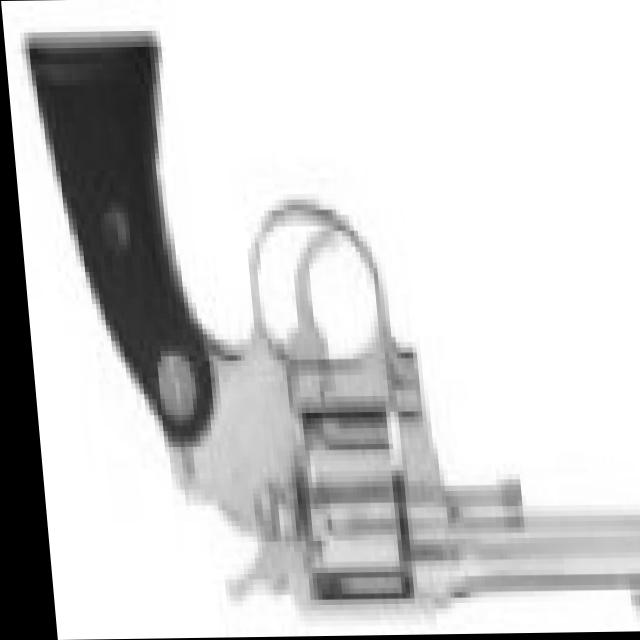handgun: (31, 36, 640, 629)
